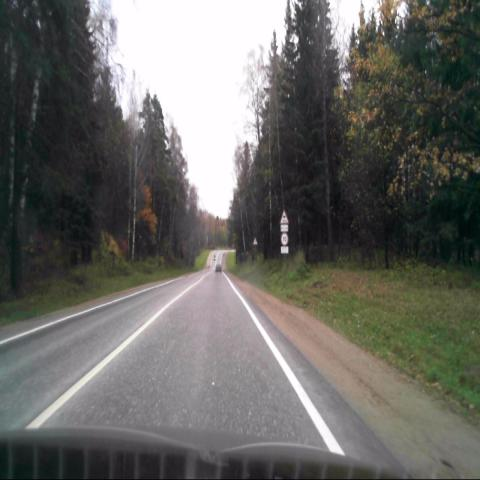1_15: (280, 209, 288, 223)
3_24: (280, 232, 288, 245)
